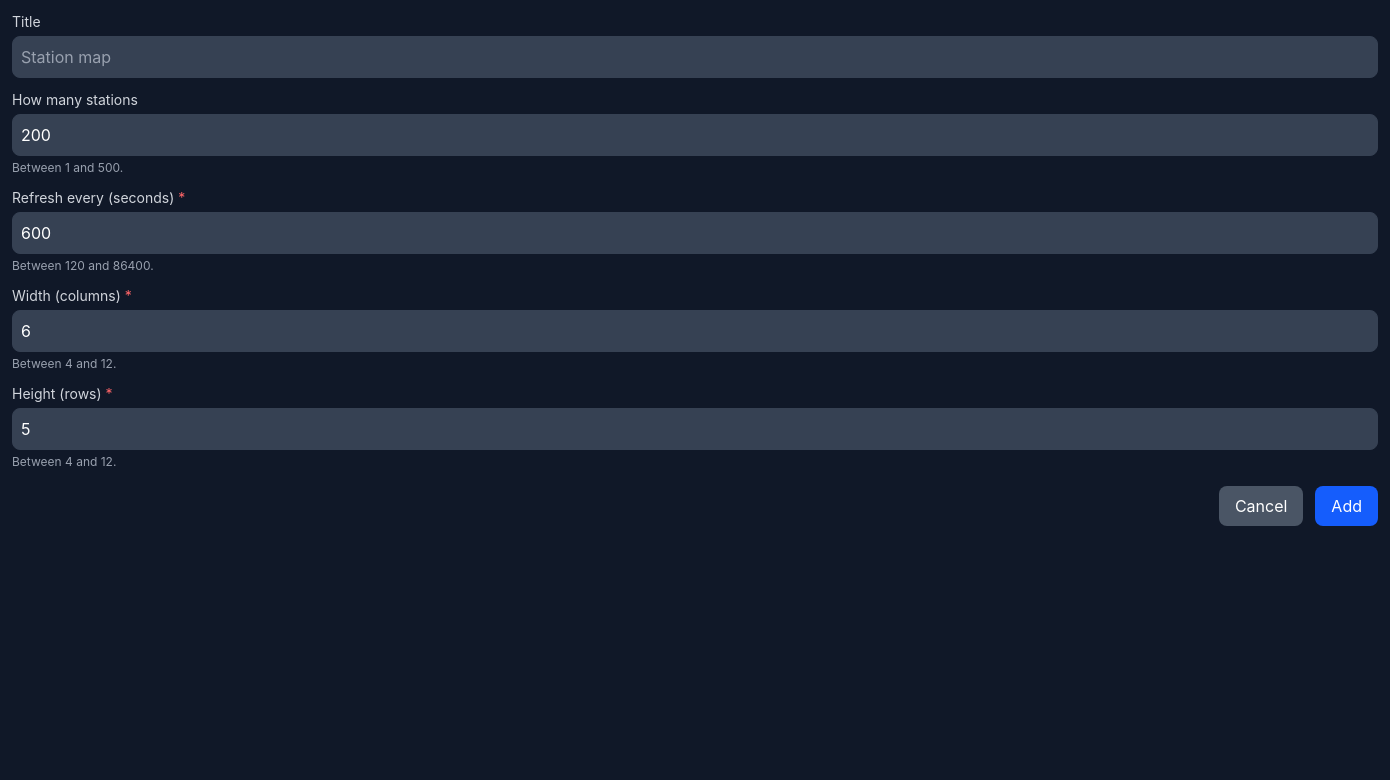
Test case: refuses a refresh interval below the minimum of the widget
Replace the text in the number field labelled "Refresh every (seconds)" with "119". click: (695, 233)
box: [12,212,1378,254]
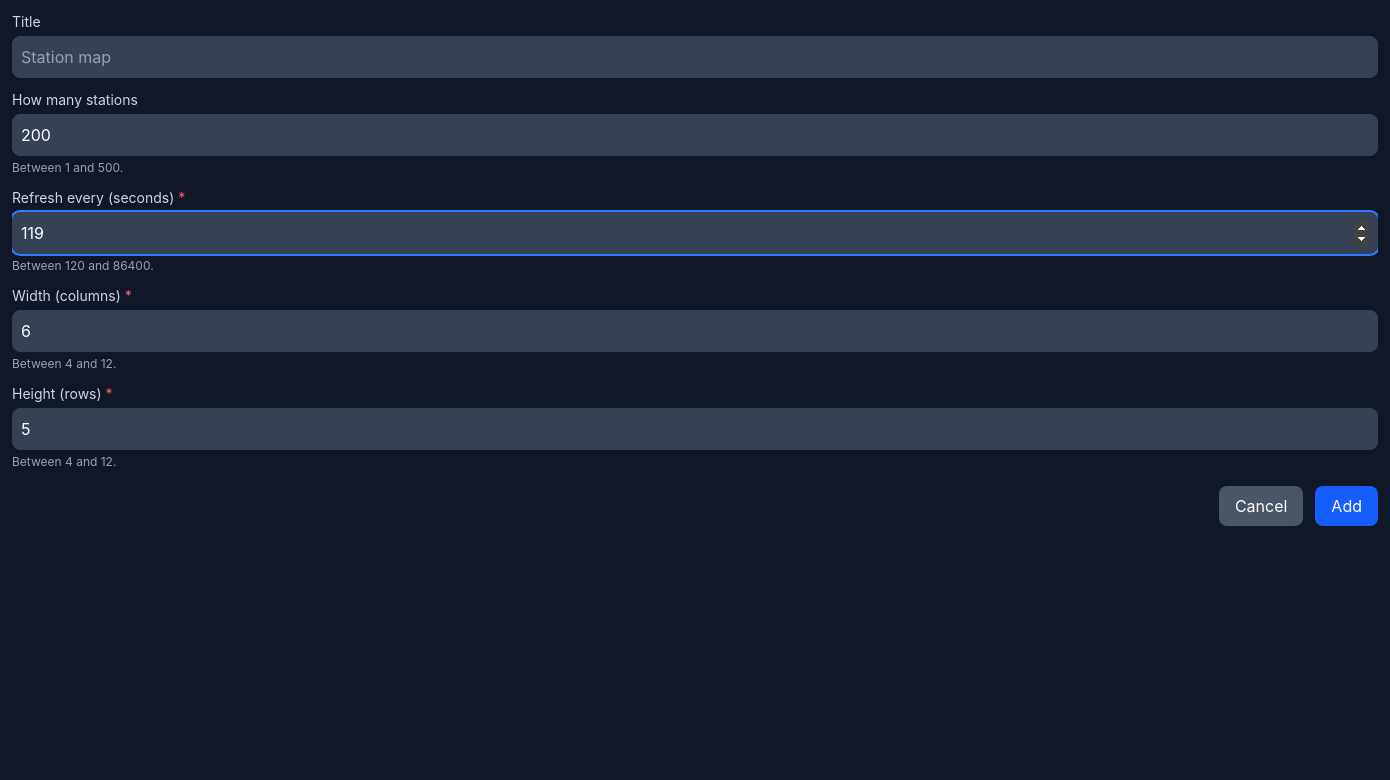
Click the button "Add". click: (1347, 506)
box: [1315,486,1378,526]
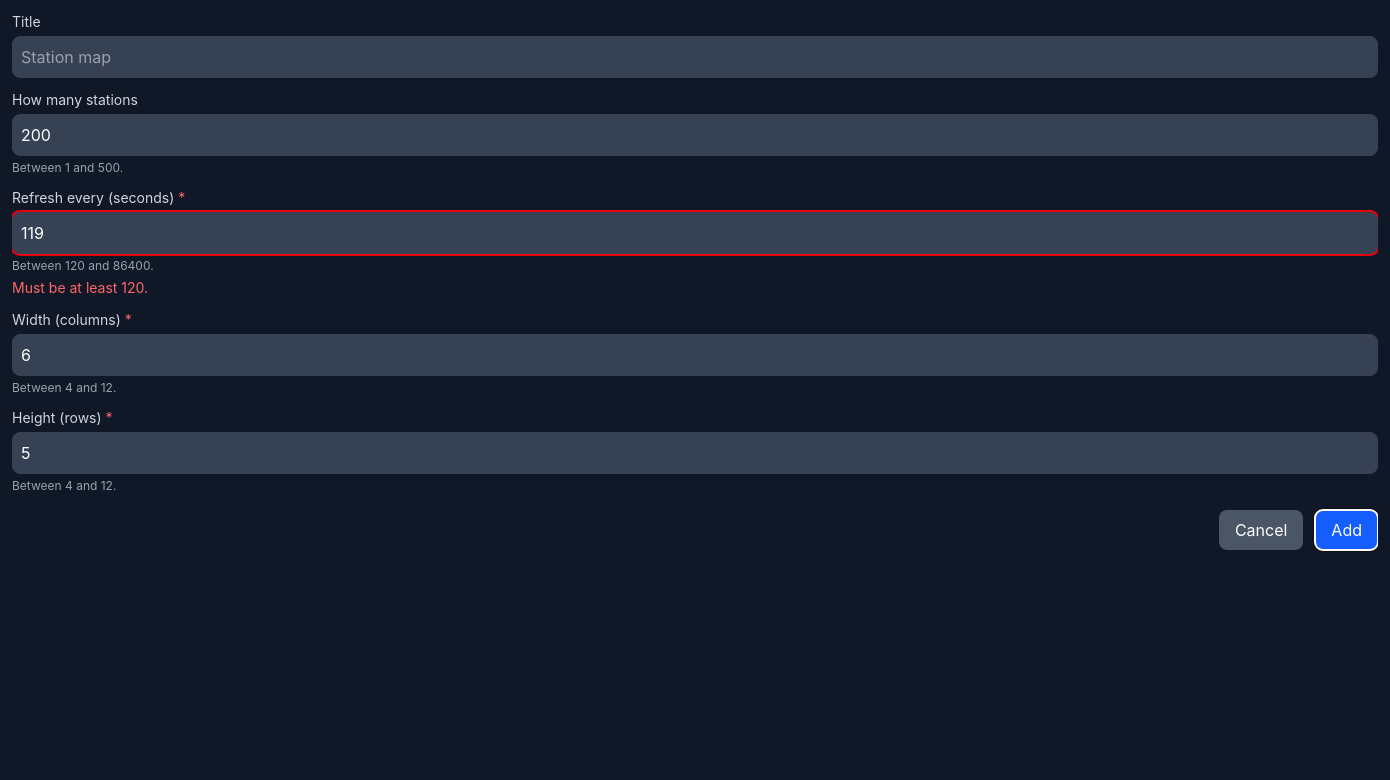
Expected: the text "Must be at least 120." is shown, [12,279,148,296]
